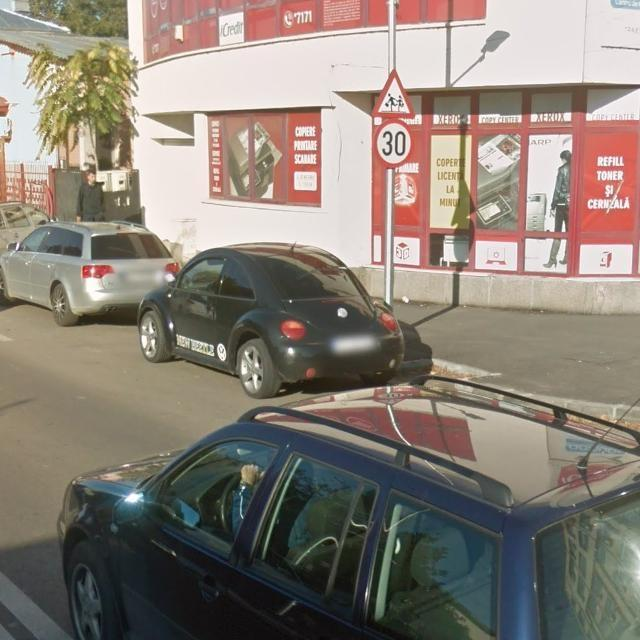forb_speed_over_30: (372, 118, 414, 169)
